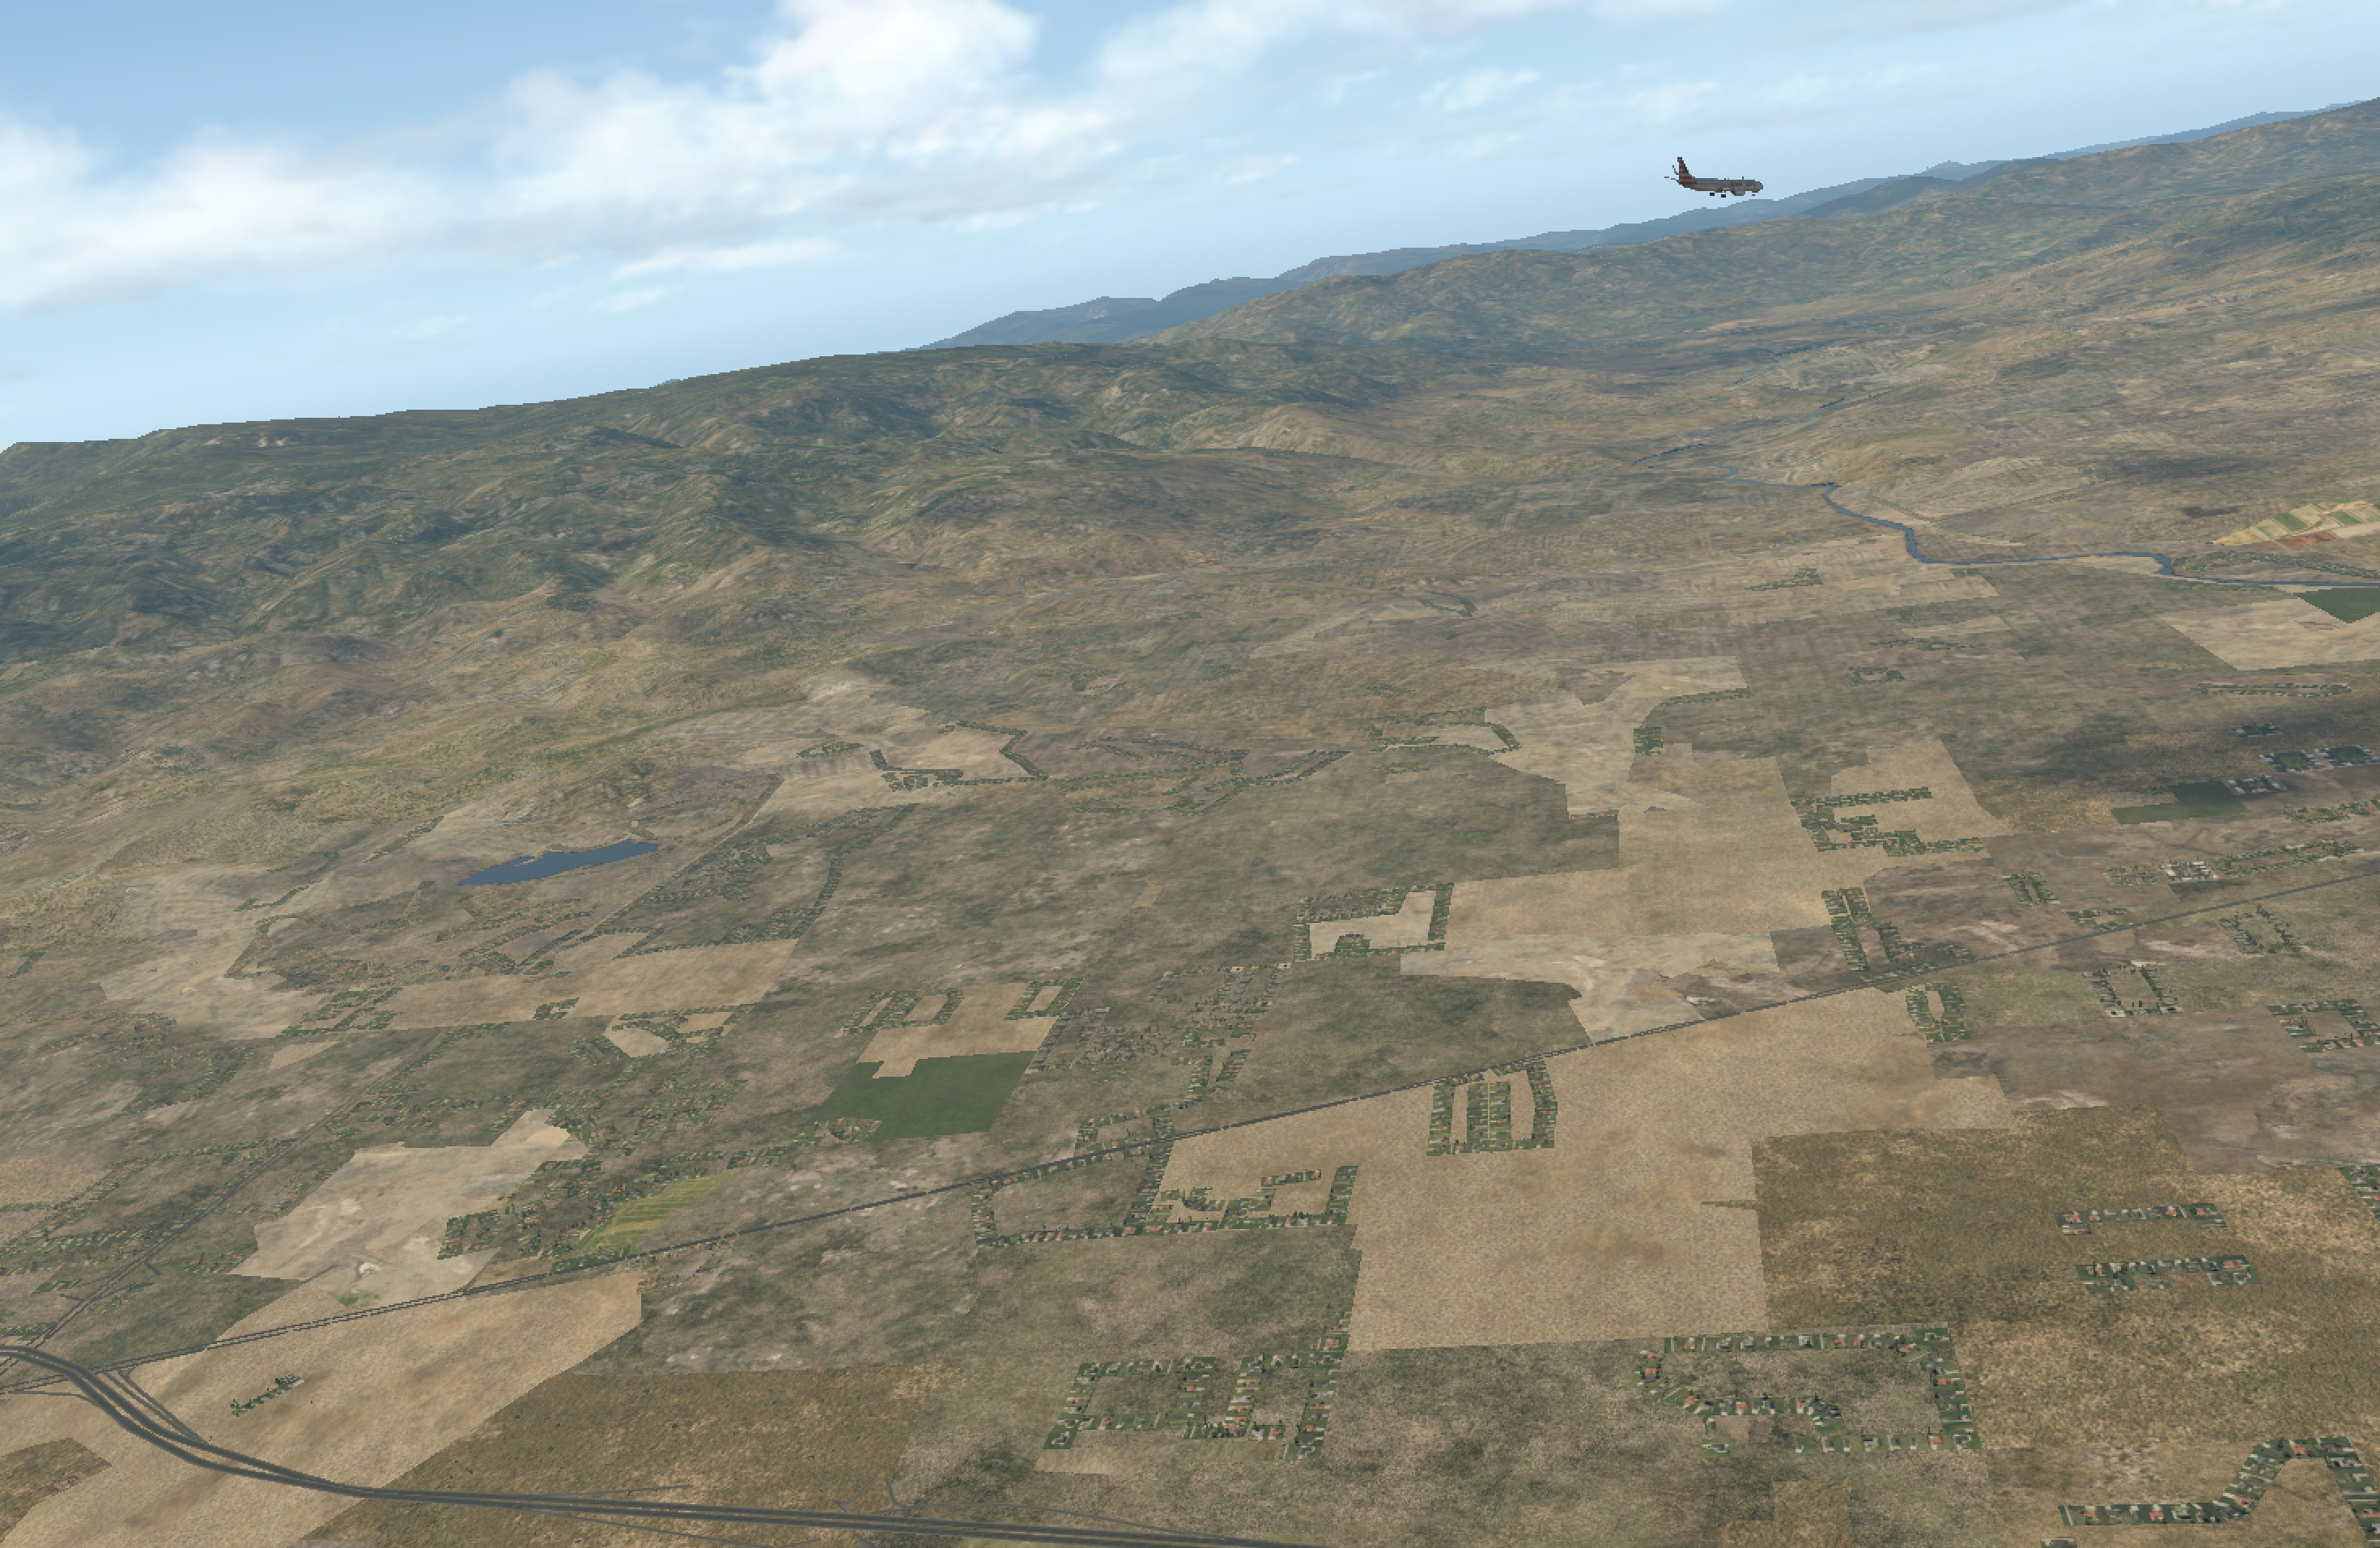aircraft: (1667, 167, 1776, 208)
